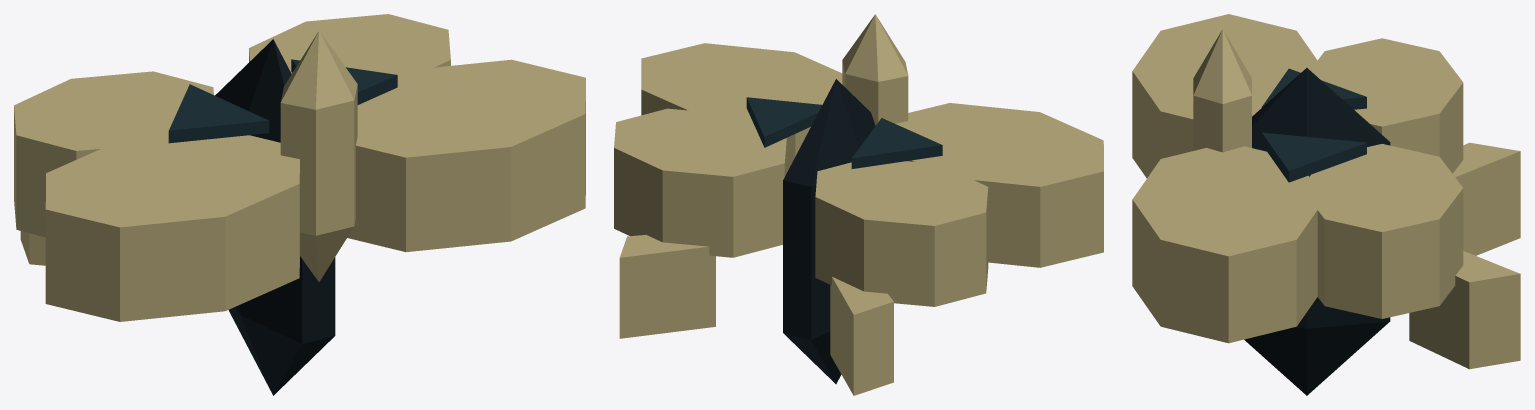
File: moth.glb
The picture shows the model from 3 angles, left to right: view 1: azimuth 30°, elevation 25°; view 2: azimuth 150°, elevation 25°; view 3: azimuth 270°, elevation 25°; orthographic projection. The views are drawn at different scales.
Visible parts, largest first — view 1: wing_l, wing_r, body; view 2: wing_l, wing_r, body; view 3: wing_r, wing_l, body.
Boxes of the visible parts, bbox=[...] form: wing_l: bbox=[14, 71, 299, 321]; wing_r: bbox=[249, 14, 585, 252]; body: bbox=[215, 30, 357, 395]; wing_l: bbox=[815, 103, 1103, 395]; wing_r: bbox=[614, 43, 842, 338]; body: bbox=[783, 14, 908, 384]; wing_r: bbox=[1132, 132, 1520, 369]; wing_l: bbox=[1132, 14, 1520, 255]; body: bbox=[1193, 29, 1390, 395].
Bounding box in the file's own units: 1.7 × 1.2 × 1.15.
